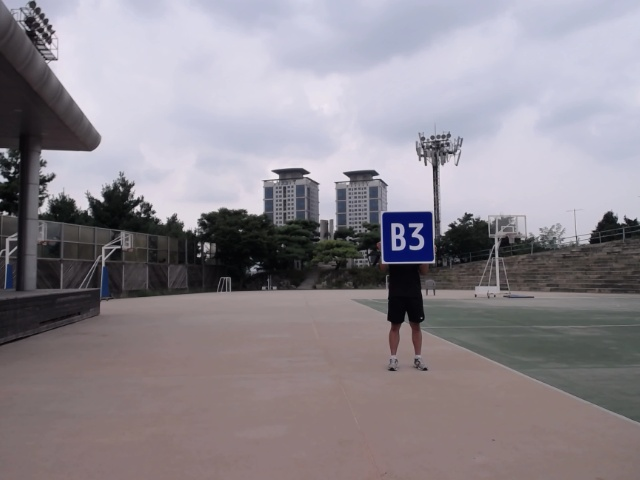delivery_b3: (380, 211, 437, 265)
